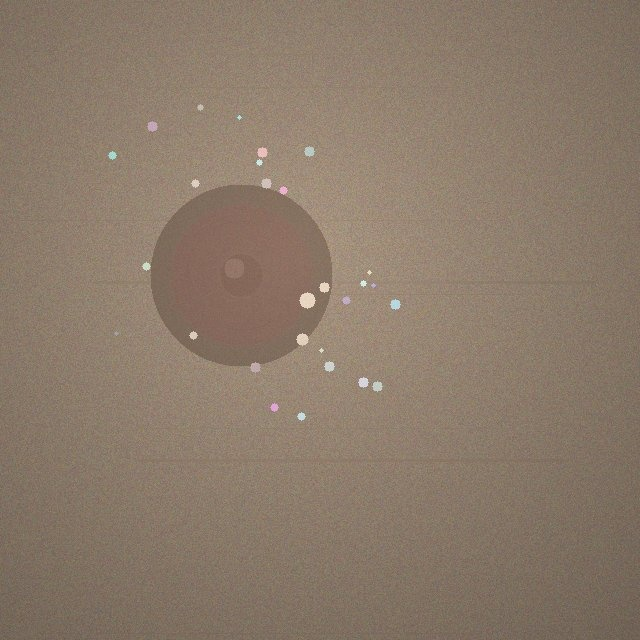overburn: (150, 184, 332, 366)
